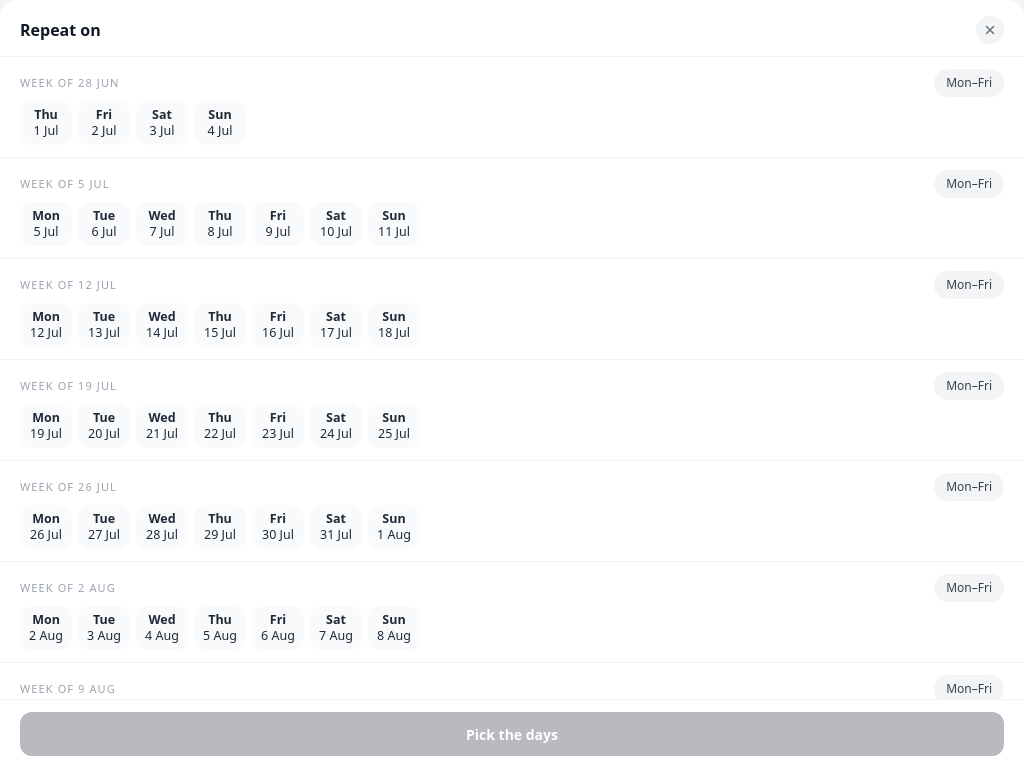
Test case: Repeat on › Mon–Fri again clears the week, and nothing picked says so
Click the 2nd button "Mon–Fri": click(969, 184) [934,170,1004,198]
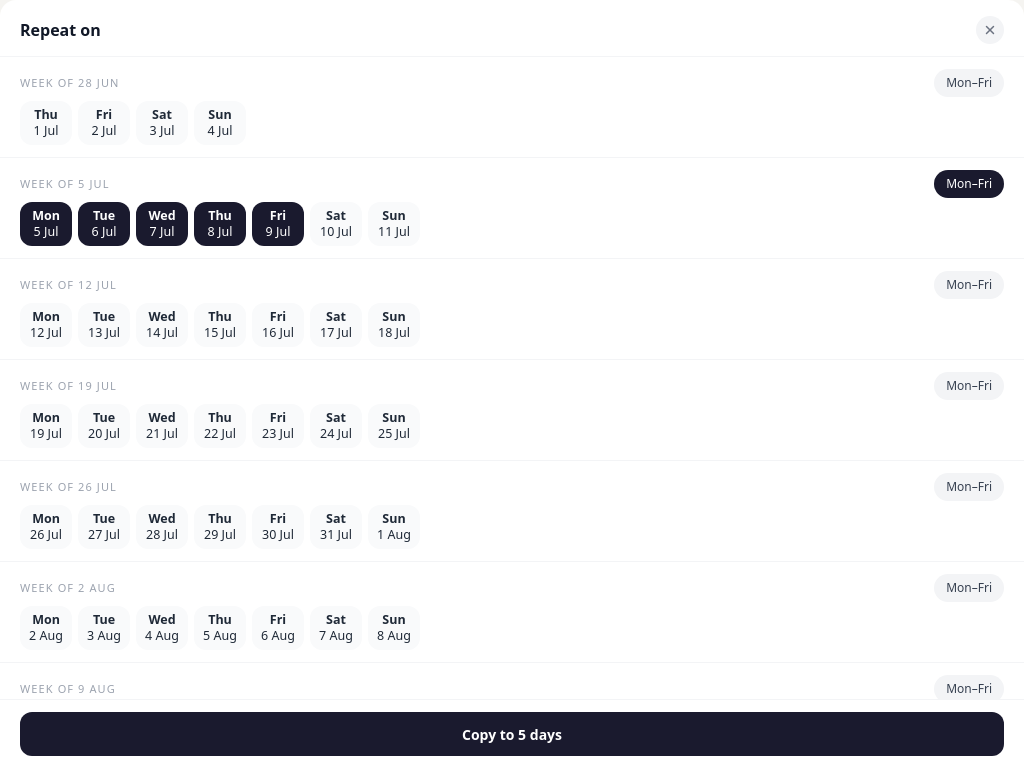
Click the 2nd button "Mon–Fri": click(969, 184) [934,170,1004,198]
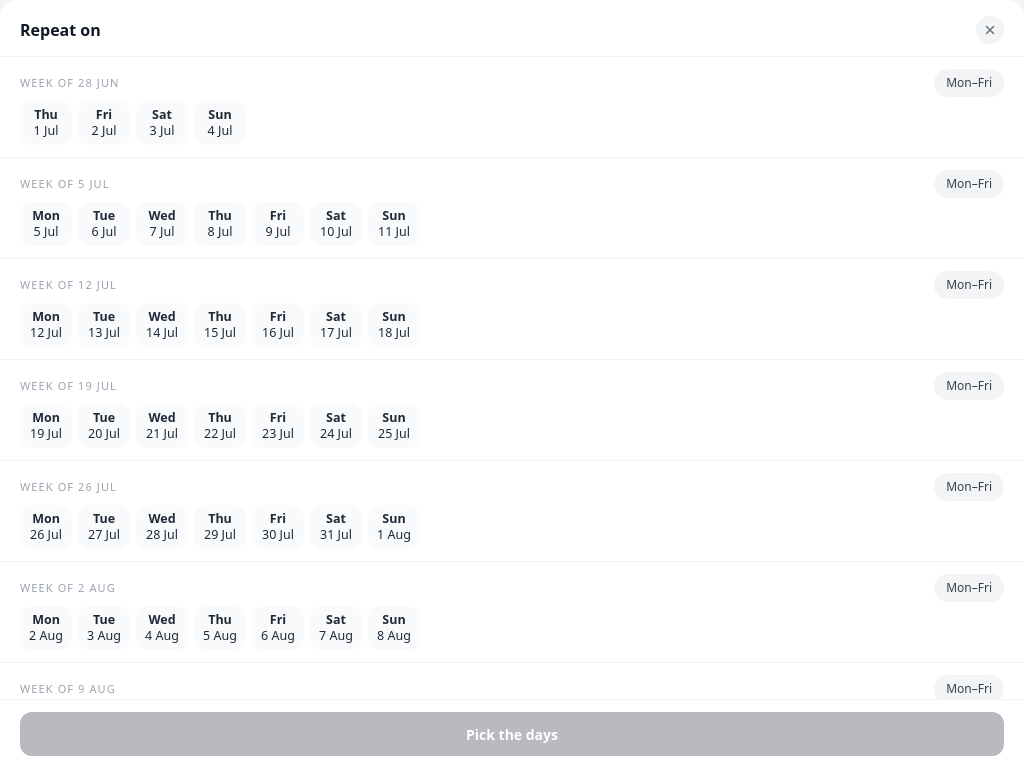
Now the button "Pick the days" is disabled, box [20,712,1004,756]
